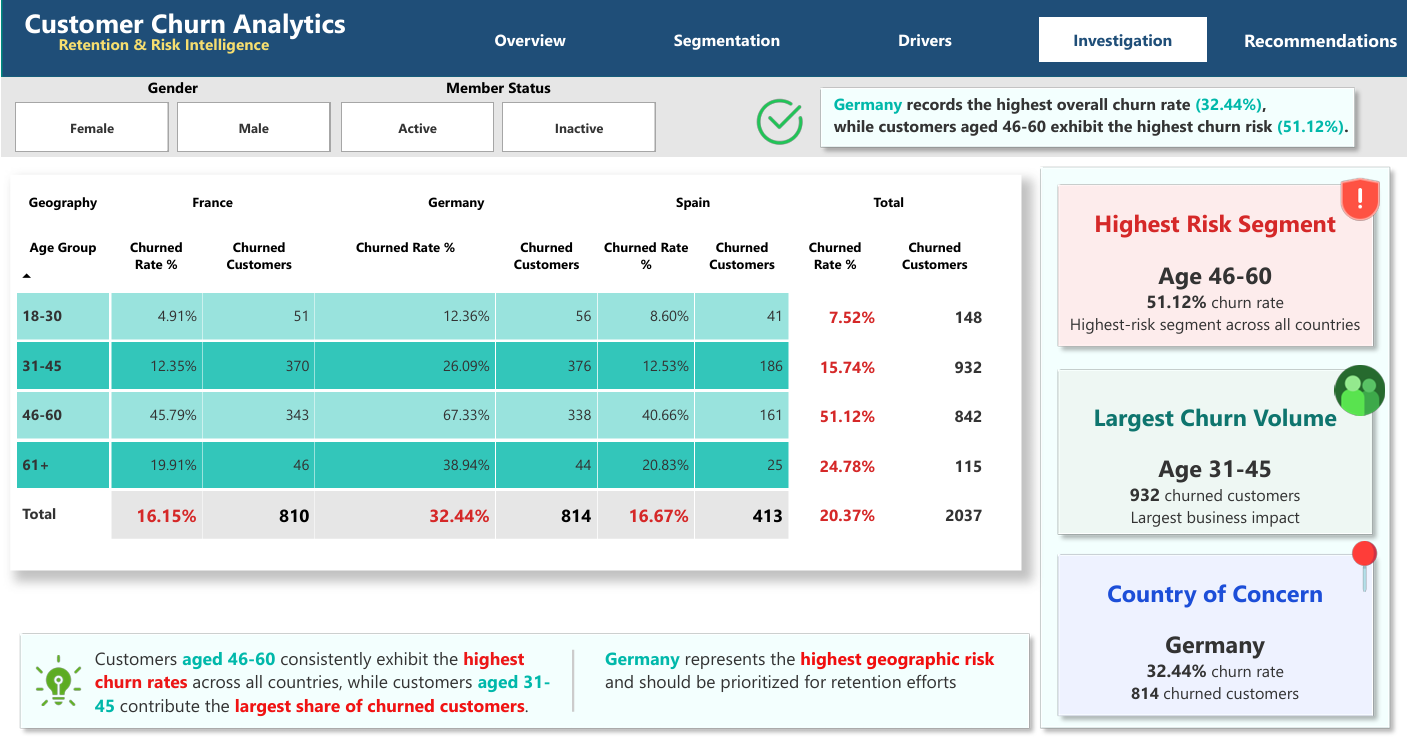

The dashboard page shown, as its layout file describes it:
{"tool":"powerbi","page":{"name":"Customer Investigation","canvas":[1280,720],"ordinal":3},"visuals":[{"type":"shape","box":[936,176,336,528],"z":0},{"type":"actionButton","box":[0,0,100,40],"z":1000},{"type":"shape","box":[0,0,1280,104.1],"z":2000},{"type":"textbox","box":[16,32,304,56],"z":3000},{"type":"textbox","box":[46.5,59.4,212.8,44.5],"z":4000},{"type":"actionButton","box":[584,49.5,152.4,39.6],"z":5000},{"type":"actionButton","box":[764,49.5,152.4,39.6],"z":6000},{"type":"actionButton","box":[944,49.5,152.4,39.6],"z":7000},{"type":"actionButton","box":[1124,49.5,152.4,39.6],"z":8000},{"type":"actionButton","box":[404.8,49.5,152.4,39.6],"z":9000},{"type":"shape","box":[0,104,1280,72],"z":10000},{"type":"pivotTable","fields":{"Values":["FactCustomer.Churned Rate %","FactCustomer.Churned Customers"],"Columns":["FactCustomer.Geography"],"Rows":["FactCustomer.Age Group"]},"box":[8,192,920,360],"z":11000},{"type":"shape","box":[952,192,305,165],"z":12000},{"type":"shape","box":[952,360,304,168],"z":13000},{"type":"shape","box":[952,528,305,165],"z":14000},{"type":"advancedSlicerVisual","fields":{"Values":["FactCustomer.Gender"]},"box":[8,104,296,72],"z":15000},{"type":"advancedSlicerVisual","fields":{"Values":["FactCustomer.Member Status"]},"box":[304,104,296,72],"z":16000},{"type":"shape","box":[8,600,936,104],"z":17000},{"type":"shape","box":[736,104,504,72],"z":18000},{"type":"textbox","box":[80,616,432,96],"z":19000},{"type":"shape","box":[368,624,304,56],"z":20000},{"type":"textbox","box":[544,616,384,80],"z":21000},{"type":"textbox","box":[952,216,304,128],"z":22000},{"type":"textbox","box":[952,392,304,128],"z":23000},{"type":"textbox","box":[944,552,320,128],"z":24000},{"type":"image","box":[1200,520,80,56],"z":25000},{"type":"image","box":[1200,360,72,56],"z":26000},{"type":"image","box":[1200,184,72,64],"z":27000},{"type":"textbox","box":[752,112,504,64],"z":28000},{"type":"image","box":[680,112,56,64],"z":28001},{"type":"image","box":[8,624,88,56],"z":28002}]}

Visuals, with their boxes on the page's 1280x720 design canvas (x1, y1, x2, y2). These are canvas units, not pixel positions in the 1407x739 screenshot, which may show the page scaled, cropped or inside an application window:
shape: (936,176,1272,704)
actionButton: (0,0,100,40)
shape: (0,0,1280,104)
textbox: (16,32,320,88)
textbox: (46,59,259,104)
actionButton: (584,50,736,89)
actionButton: (764,50,916,89)
actionButton: (944,50,1096,89)
actionButton: (1124,50,1276,89)
actionButton: (405,50,557,89)
shape: (0,104,1280,176)
pivotTable - FactCustomer.Churned Rate % x FactCustomer.Churned Customers: (8,192,928,552)
shape: (952,192,1257,357)
shape: (952,360,1256,528)
shape: (952,528,1257,693)
advancedSlicerVisual - FactCustomer.Gender: (8,104,304,176)
advancedSlicerVisual - FactCustomer.Member Status: (304,104,600,176)
shape: (8,600,944,704)
shape: (736,104,1240,176)
textbox: (80,616,512,712)
shape: (368,624,672,680)
textbox: (544,616,928,696)
textbox: (952,216,1256,344)
textbox: (952,392,1256,520)
textbox: (944,552,1264,680)
image: (1200,520,1280,576)
image: (1200,360,1272,416)
image: (1200,184,1272,248)
textbox: (752,112,1256,176)
image: (680,112,736,176)
image: (8,624,96,680)
